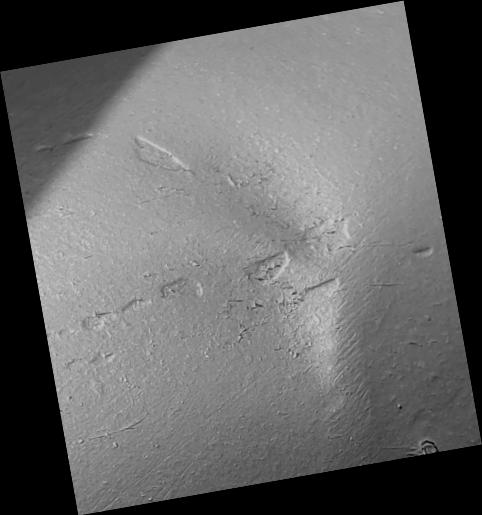dent: (1, 1, 482, 515)
